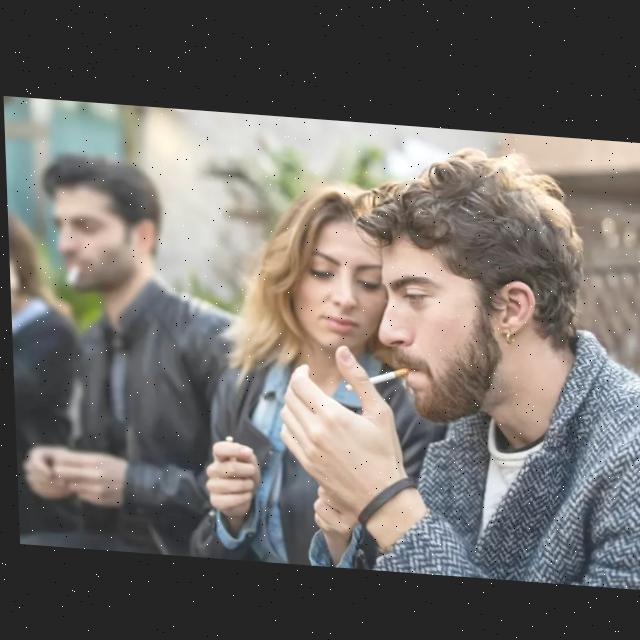cigarette: (341, 359, 408, 390), (62, 260, 79, 286)
